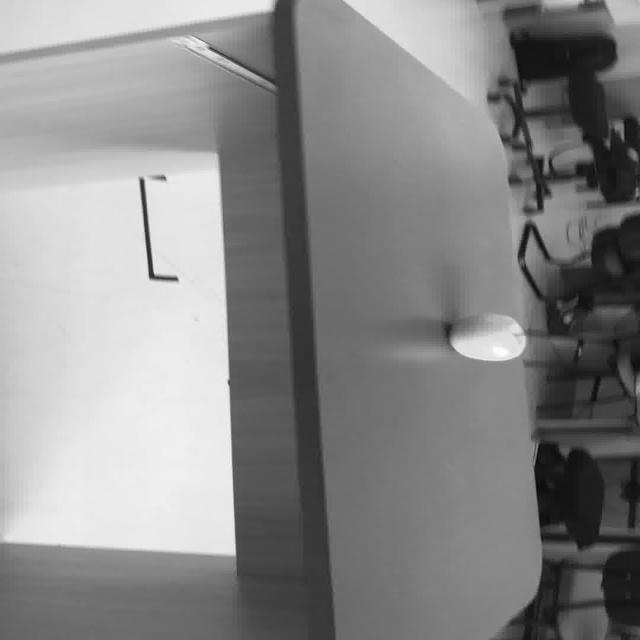apple: (446, 312, 526, 361)
